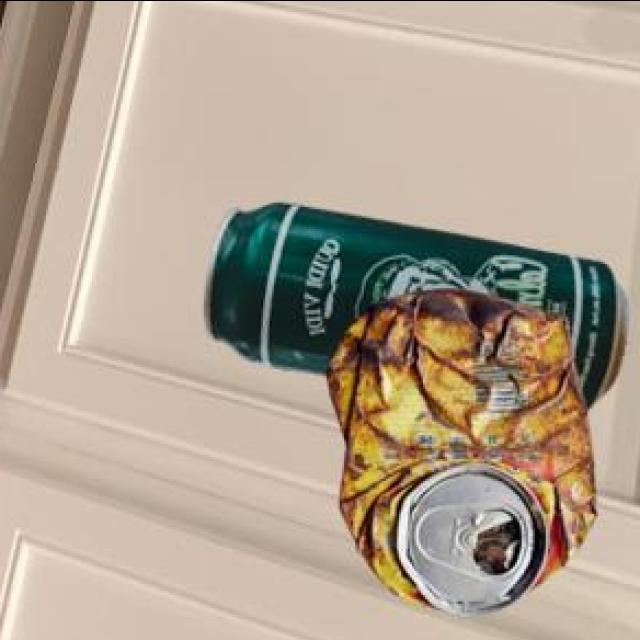logam: (330, 293, 599, 617), (207, 205, 630, 411)
